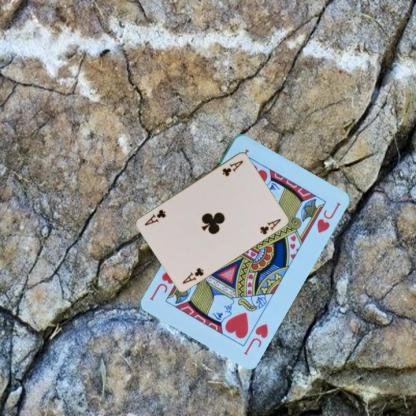Ac: (180, 264, 205, 284), (220, 158, 244, 178)
Jh: (241, 320, 269, 357)
